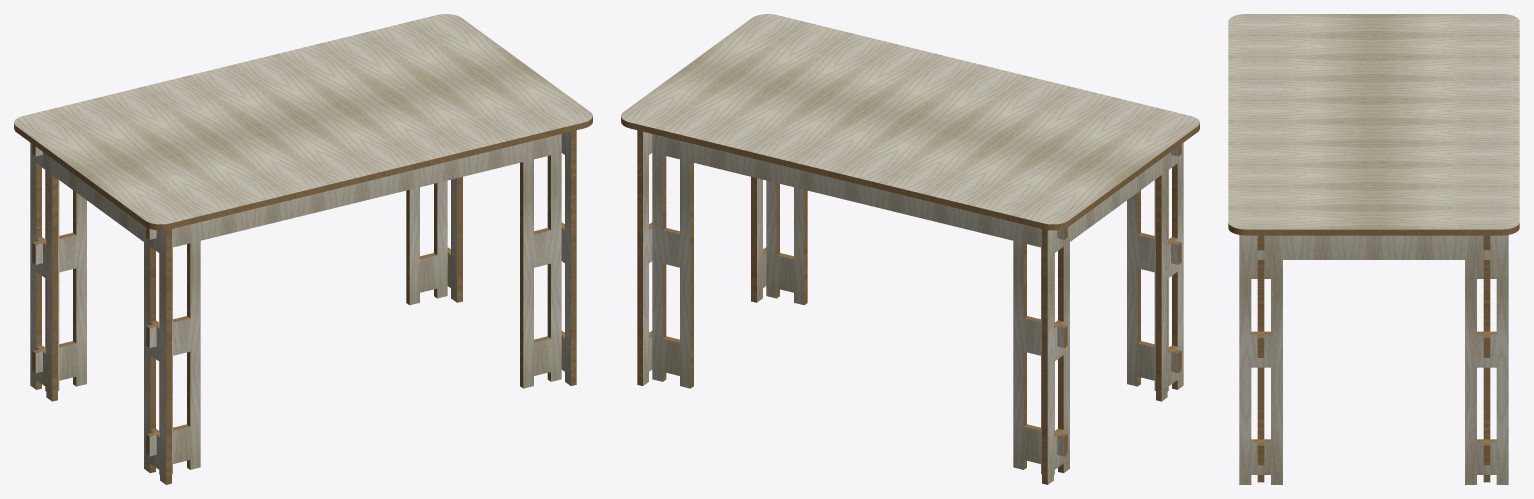
Rendered from NODO_COMEDOR_COUNTRY_KIRI_V1_REVISION.glb.
The picture shows the model from 3 angles, left to right: view 1: azimuth 30°, elevation 25°; view 2: azimuth 150°, elevation 25°; view 3: azimuth 270°, elevation 25°; orthographic projection.
Parts seen in each view (by area): view 1: Tapa, Lateral_2, Lateral_4, Lateral_1, Lateral_3; view 2: Tapa, Lateral_1, Lateral_4, Lateral_2, Lateral_3; view 3: Tapa, Lateral_3, Lateral_1, Lateral_2, Lateral_4.
Boxes of the visible parts, x1,y1,x2,y2 form: Tapa: (14, 14, 592, 230); Lateral_2: (146, 134, 564, 474); Lateral_4: (30, 143, 171, 484); Lateral_1: (32, 144, 450, 391); Lateral_3: (447, 130, 576, 385); Tapa: (621, 14, 1199, 230); Lateral_1: (649, 134, 1067, 474); Lateral_4: (1042, 143, 1183, 484); Lateral_2: (763, 144, 1181, 391); Lateral_3: (637, 130, 766, 385); Tapa: (1228, 14, 1519, 235); Lateral_3: (1239, 235, 1508, 484); Lateral_1: (1483, 235, 1490, 482); Lateral_2: (1257, 235, 1264, 482); Lateral_4: (1251, 260, 1496, 278).
Bounding box in the file's own units: 1.4 × 0.799 × 0.8.
2 materials, 2 textured.
